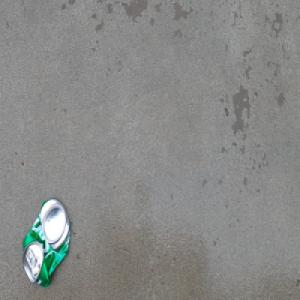SodaCan: (21, 196, 72, 289)
